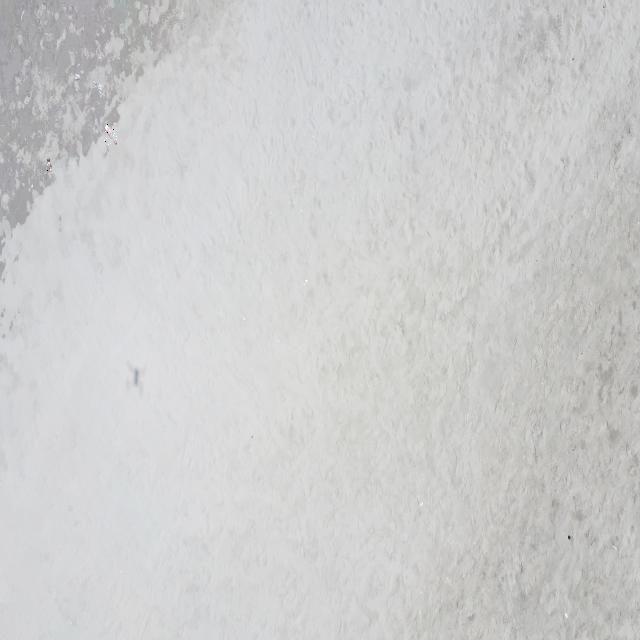glass: (104, 123, 118, 145), (93, 79, 104, 94), (46, 157, 52, 172), (74, 72, 80, 80)
